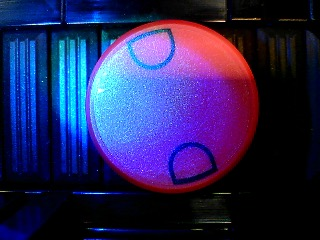MIPO2: (85, 19, 259, 193)
